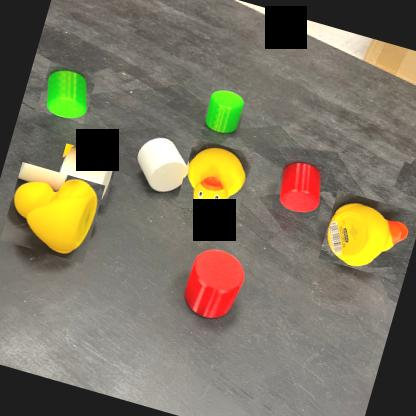duck: (0, 162, 105, 264), (318, 190, 416, 281), (176, 138, 255, 224)
green cylinder: (36, 62, 97, 124), (200, 86, 249, 140)
red cylinder: (177, 242, 252, 329), (272, 156, 330, 220)
white cylinder: (128, 130, 196, 198), (52, 144, 118, 206)
